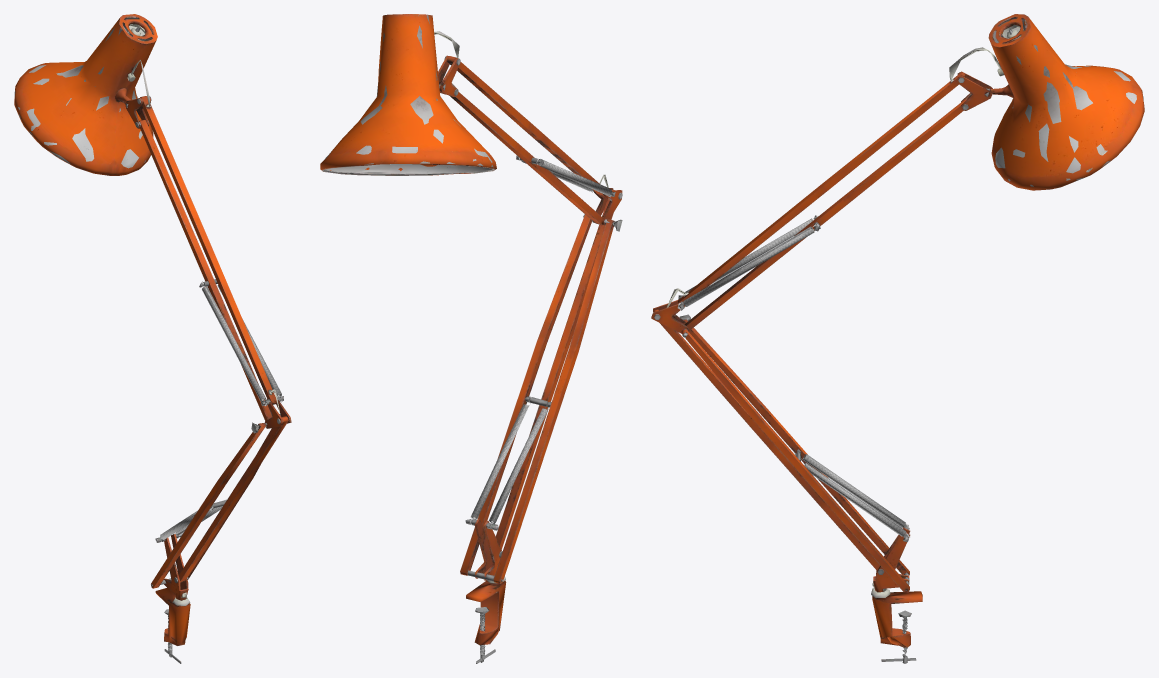
The model's file is desk_lamp_arm_01.glb.
3 views of the same model, side by side, from view 1: azimuth 30°, elevation 25°; view 2: azimuth 150°, elevation 25°; view 3: azimuth 270°, elevation 25° (orthographic). The views are drawn at different scales.
Parts seen in each view (by area): view 1: desk_lamp_arm_01; view 2: desk_lamp_arm_01; view 3: desk_lamp_arm_01.
Part boxes in pixels (x1,y1,x2,y2): desk_lamp_arm_01: [14, 14, 291, 663]; desk_lamp_arm_01: [320, 14, 622, 663]; desk_lamp_arm_01: [651, 14, 1144, 663].
Bounding box in the file's own units: 0.2017 × 0.8926 × 0.6132.
2 materials, 2 textured.
